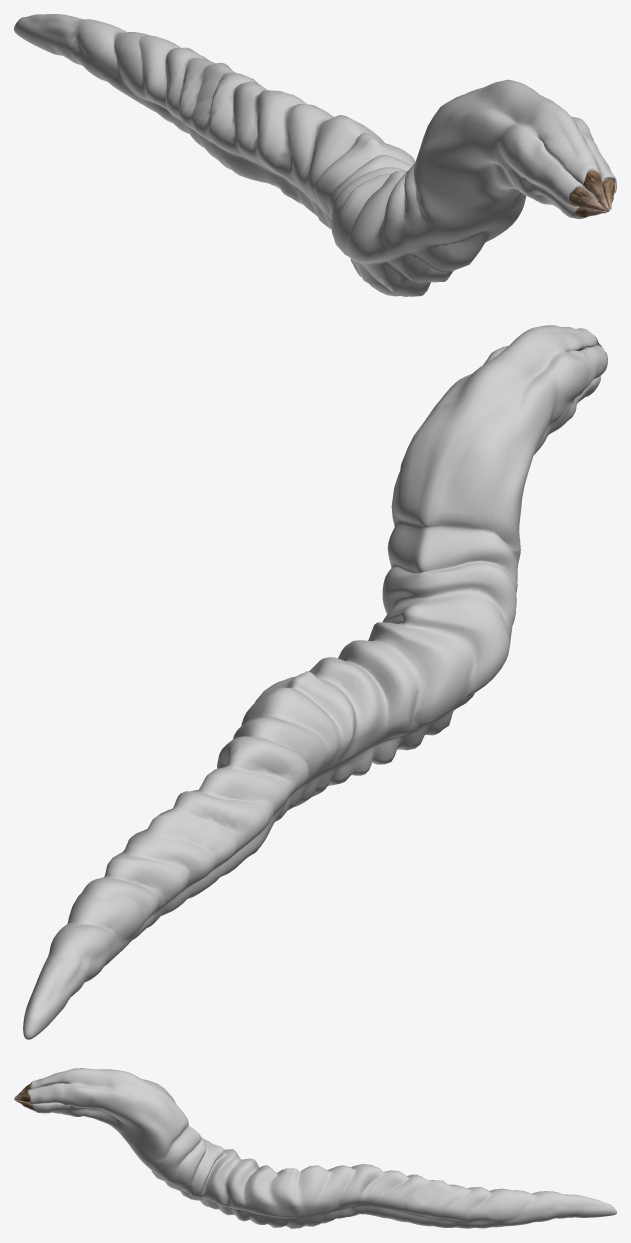
Rendered from alieno3_bk.obj.
The picture shows the model from 3 angles, top to bottom: view 1: azimuth 30°, elevation 25°; view 2: azimuth 150°, elevation 25°; view 3: azimuth 270°, elevation 25°; orthographic projection. The views are drawn at different scales.
Parts seen in each view (by area): view 1: Free_Worm_Monster Body, Teeth Free_Worm_Monster; view 2: Free_Worm_Monster Body; view 3: Free_Worm_Monster Body, Teeth Free_Worm_Monster.
Boxes of the visible parts, bbox=[...] form: Free_Worm_Monster Body: bbox=[14, 14, 616, 296]; Teeth Free_Worm_Monster: bbox=[569, 170, 614, 216]; Free_Worm_Monster Body: bbox=[23, 325, 607, 1039]; Free_Worm_Monster Body: bbox=[27, 1068, 616, 1228]; Teeth Free_Worm_Monster: bbox=[14, 1083, 35, 1110].
Size of the model in its own units: 62.95 by 119 by 417.
